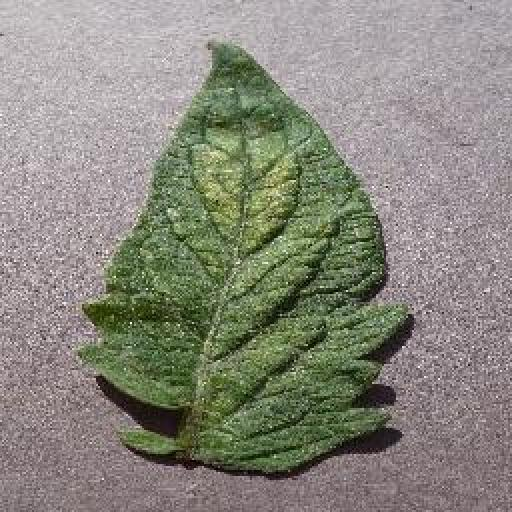Spider Mites: (80, 40, 407, 480)
